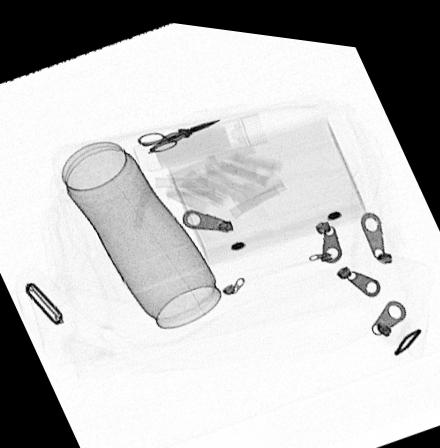Scissors: (133, 112, 222, 148)
